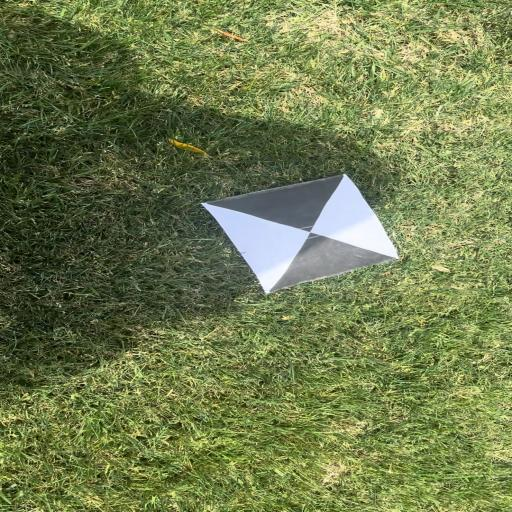target: (204, 173, 399, 293)
